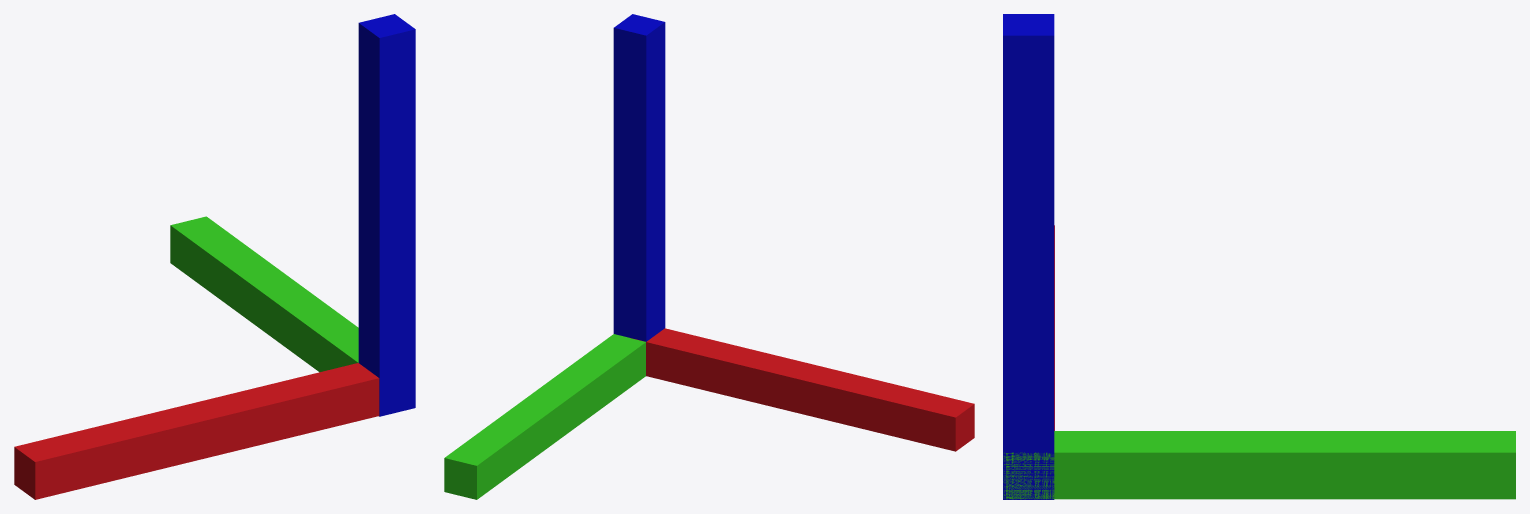
Rendered from index_01_l.dae.
3 renders of one model, left to right at view 1: azimuth 30°, elevation 25°; view 2: azimuth 150°, elevation 25°; view 3: azimuth 270°, elevation 25°, orthographic. The views are drawn at different scales.
Visible parts, largest first — view 1: Cube_002, Cube, Cube_001; view 2: Cube, Cube_002, Cube_001; view 3: Cube_001, Cube_002.
Boxes of the visible parts, x1,y1,x2,y2 form: Cube_002: [358, 14, 415, 416]; Cube: [14, 363, 379, 499]; Cube_001: [170, 216, 358, 372]; Cube: [630, 328, 974, 451]; Cube_002: [613, 14, 665, 341]; Cube_001: [444, 334, 645, 499]; Cube_001: [1003, 431, 1515, 499]; Cube_002: [1003, 14, 1054, 499].
Bounding box in the file's own units: 1.05 × 1 × 1.
